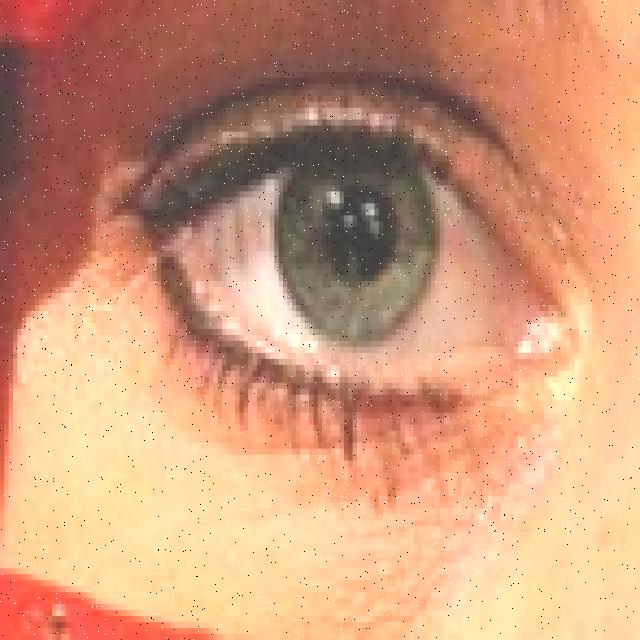Normal: (110, 48, 579, 503)
